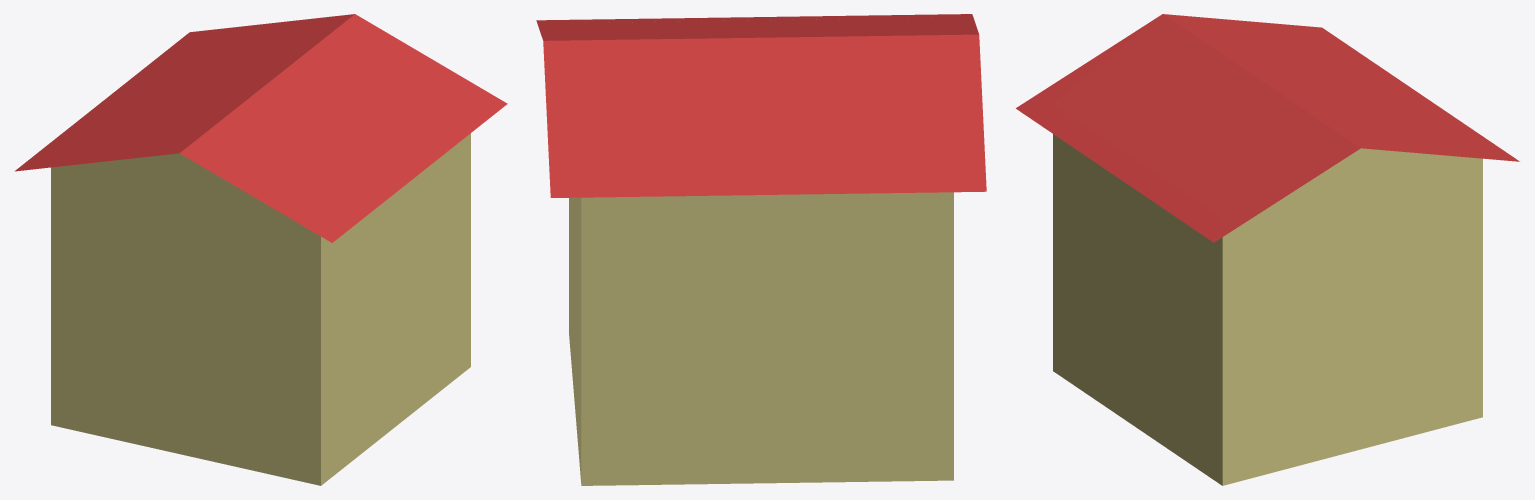
3 views of the same model, side by side, from view 1: azimuth 30°, elevation 25°; view 2: azimuth 150°, elevation 25°; view 3: azimuth 270°, elevation 25° (orthographic). The views are drawn at different scales.
Size of the model in its own units: 9.33 by 9.25 by 6.36.
